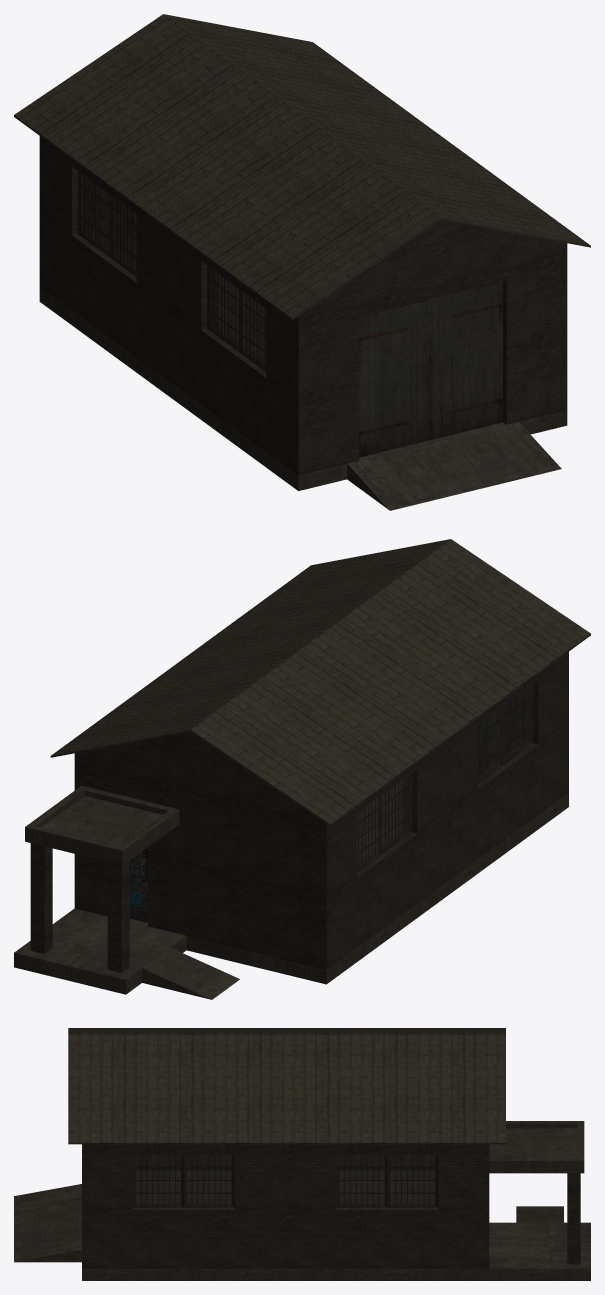
File: warehouse_mx_2.dae
The picture shows the model from 3 angles, top to bottom: view 1: azimuth 30°, elevation 25°; view 2: azimuth 150°, elevation 25°; view 3: azimuth 270°, elevation 25°; orthographic projection. The views are drawn at different scales.
Visible parts, largest first — view 1: warehouse_mx_2, garage_door_hr_3_piece_2, garage_door_hr_3_piece_1; view 2: warehouse_mx_2, door_hr_9, garage_door_hr_3_piece_1; view 3: warehouse_mx_2.
Part boxes in pixels (left/top/right/bottom): warehouse_mx_2: left=14, top=14, right=590, bottom=510; garage_door_hr_3_piece_2: left=429, top=281, right=502, bottom=439; garage_door_hr_3_piece_1: left=359, top=299, right=429, bottom=457; warehouse_mx_2: left=14, top=539, right=590, bottom=999; door_hr_9: left=129, top=849, right=147, bottom=922; garage_door_hr_3_piece_1: left=478, top=706, right=503, bottom=774; warehouse_mx_2: left=14, top=1028, right=590, bottom=1280.
Bounding box in the file's own units: 8 × 17 × 6.32.
Materials: 8 (8 with a texture image).
